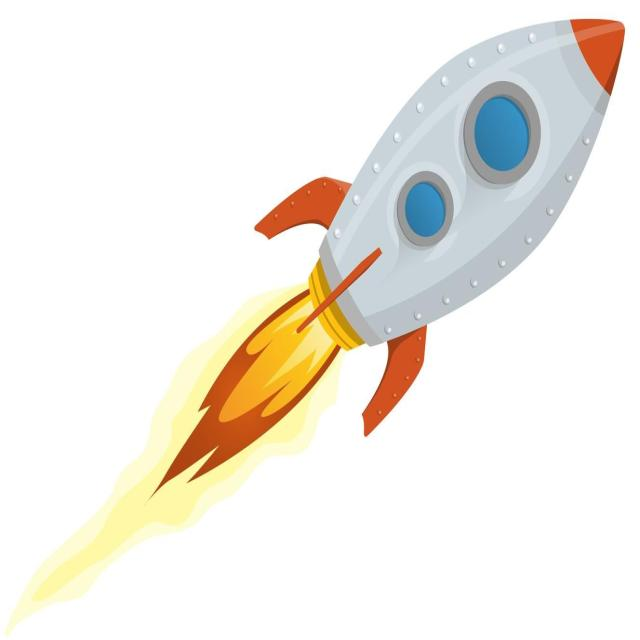medium_debris: (163, 301, 338, 483)
rocket: (243, 13, 635, 441)
